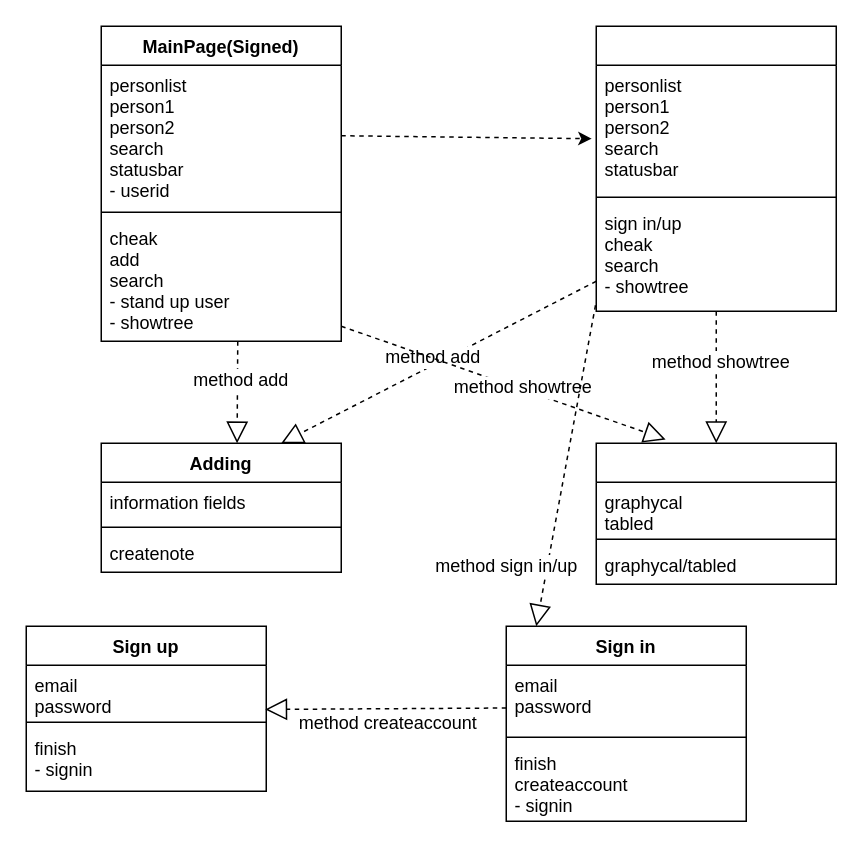
The diagram is 863 pixels wide and 852 high, and some of its shapes have lost their labels. Each missing label, with the box of its shape:
GenealogucalTree: (595, 442, 836, 584)
MainPage(Unsigned): (595, 25, 836, 311)
